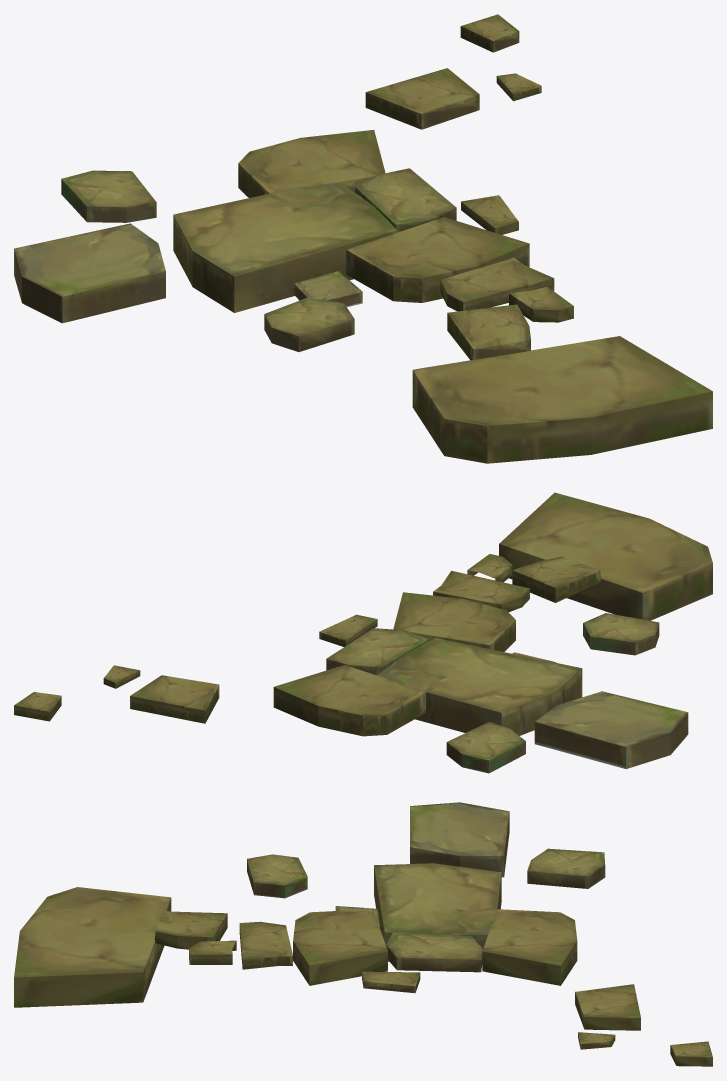
File: shiban01.FBX
The picture shows the model from 3 angles, top to bottom: view 1: azimuth 30°, elevation 25°; view 2: azimuth 150°, elevation 25°; view 3: azimuth 270°, elevation 25°; orthographic projection. The views are drawn at different scales.
Visible parts, largest first — view 1: shiban; view 2: shiban; view 3: shiban.
Boxes of the visible parts, <box> form: shiban: <box>14,14,712,463</box>; shiban: <box>14,492,712,773</box>; shiban: <box>14,802,712,1066</box>.
Bounding box in the file's own units: 32.83 × 38.86 × 2.61.
